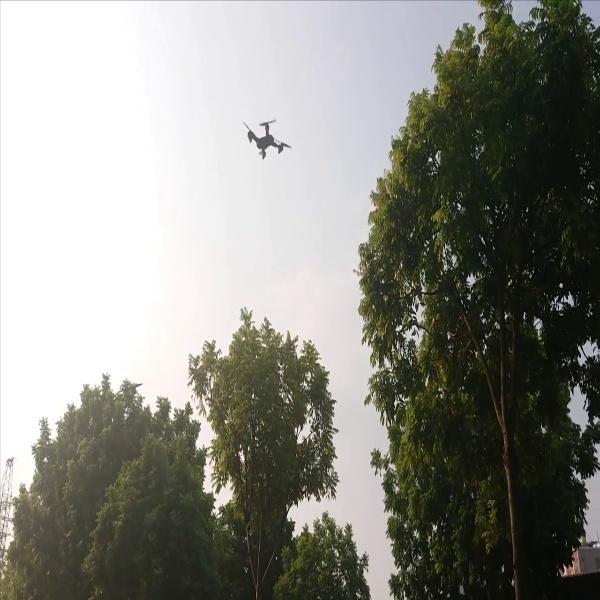drone: (235, 116, 295, 162)
